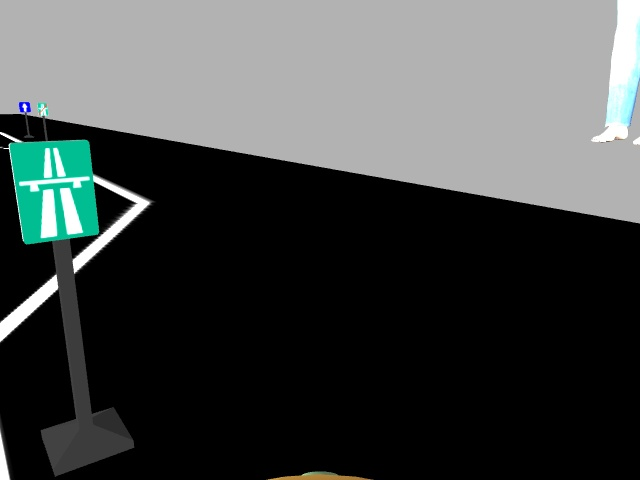HighwayEntrance: (8, 140, 99, 242)
